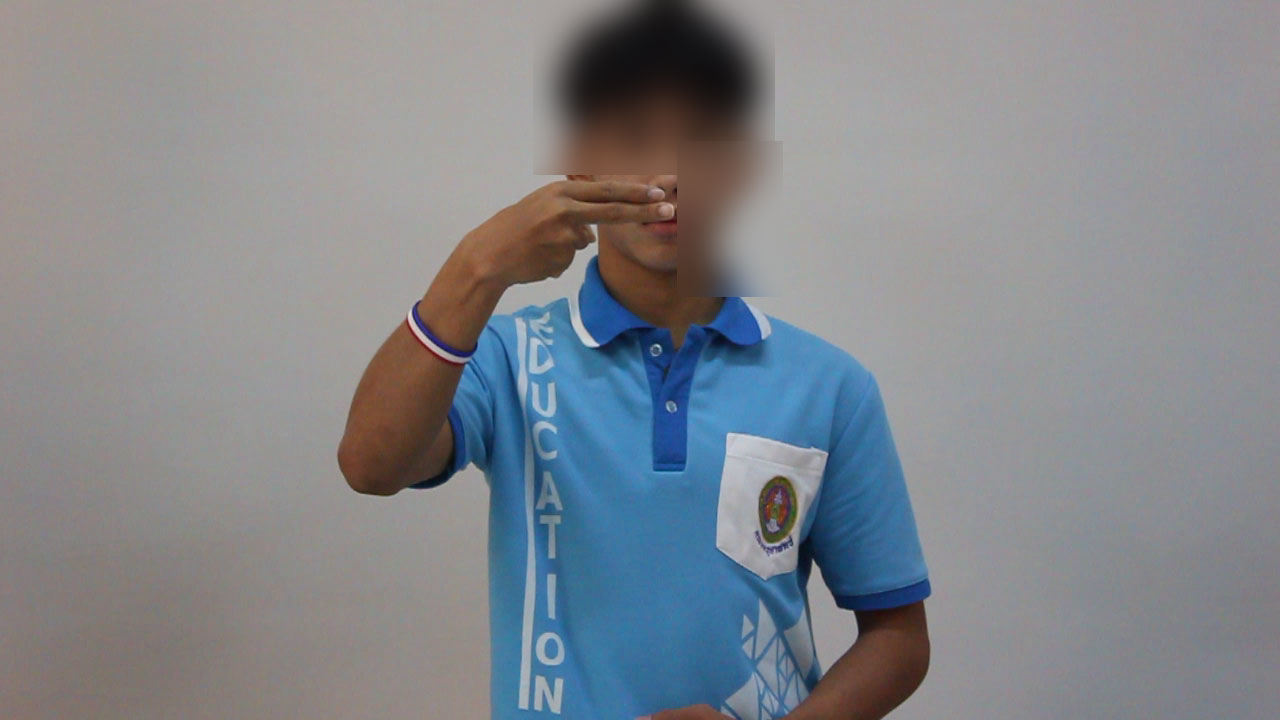hor: (453, 168, 690, 304)
